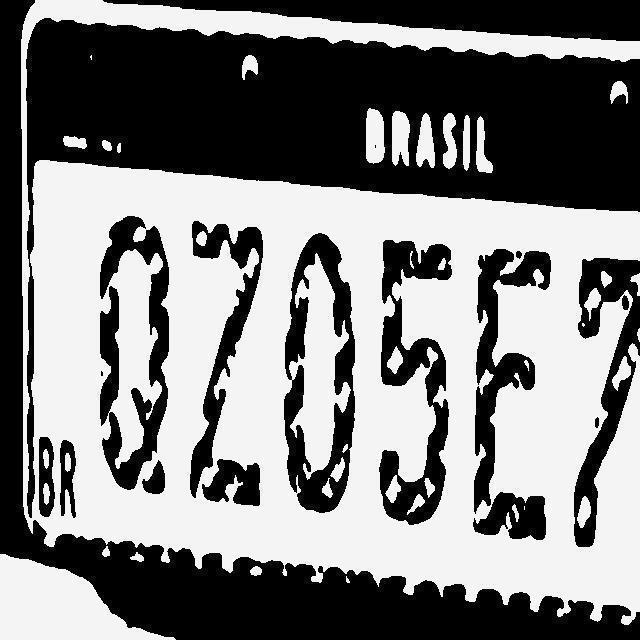0: (280, 222, 358, 520)
5: (377, 230, 458, 532)
7: (571, 247, 639, 551)
b: (38, 434, 56, 520)
e: (473, 244, 555, 560)
q: (91, 200, 174, 498)
r: (59, 435, 79, 523)
z: (190, 217, 267, 513)
